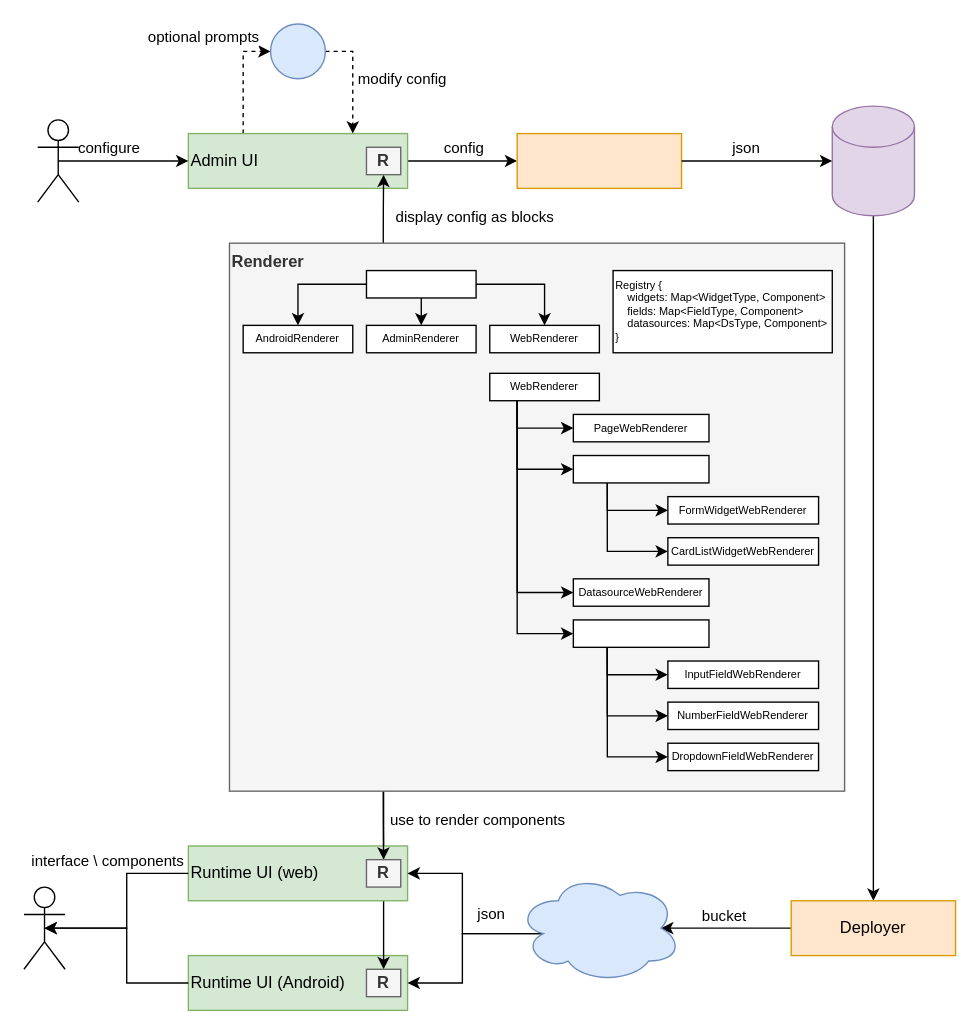
Image size: 980x1034. Some labels were removed from this diagram. Here are the shapes that lost their labels. From the top down, the centre of each, then its label:
At [297,51]: "AI".
At [57,160]: "BA".
At [599,160]: "Backed".
At [872,160]: "Git".
At [420,283]: "AbstractRenderer".
At [640,468]: "WidgetWebRenderer".
At [640,633]: "FieldWebRenderer".
At [44,927]: "User".
At [599,927]: "CDN".
